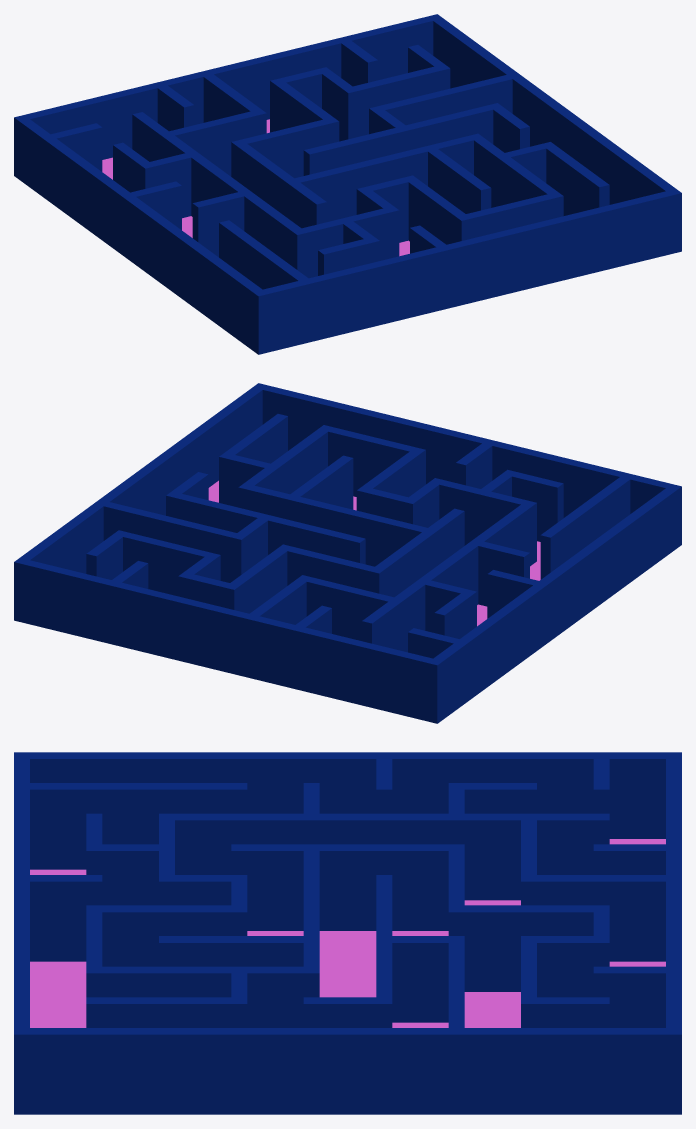
Rendered from Level11Ground.FBX.
The picture shows the model from 3 angles, top to bottom: view 1: azimuth 30°, elevation 25°; view 2: azimuth 150°, elevation 25°; view 3: azimuth 270°, elevation 25°; orthographic projection. The views are drawn at different scales.
Parts seen in each view (by area): view 1: pPlane2; view 2: pPlane2; view 3: pPlane2.
Part boxes in pixels (x1,y1,x2,y2): pPlane2: [14, 14, 681, 354]; pPlane2: [14, 383, 681, 723]; pPlane2: [14, 752, 681, 1114].
Bounding box in the file's own units: 212 × 28 × 212.
